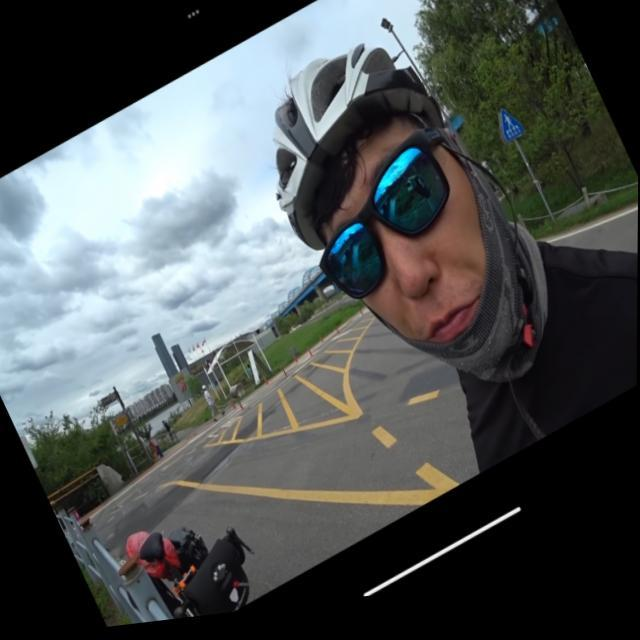Helmet: (252, 18, 566, 395)
